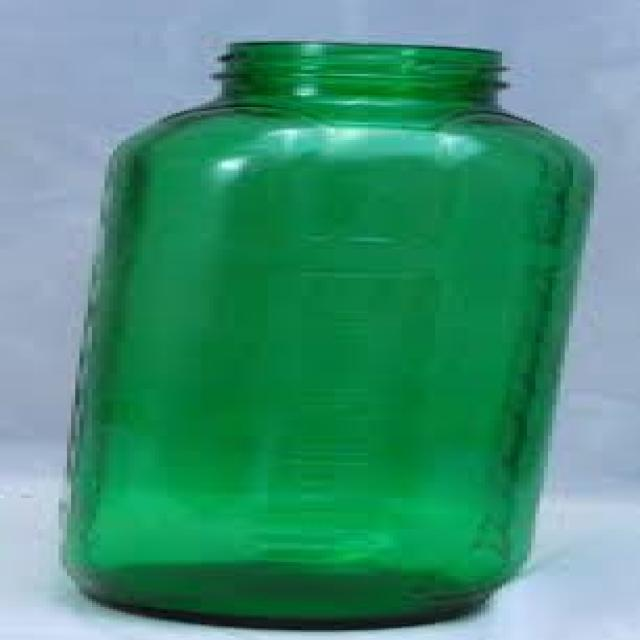glass: (59, 39, 594, 628)
